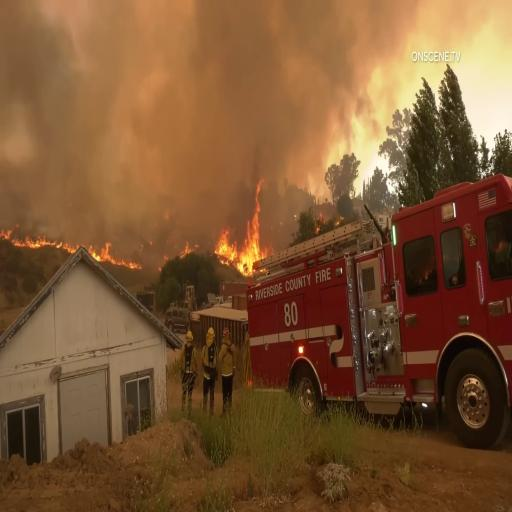fire: (8, 223, 147, 274), (220, 180, 272, 288)
smoke: (256, 4, 399, 90)
